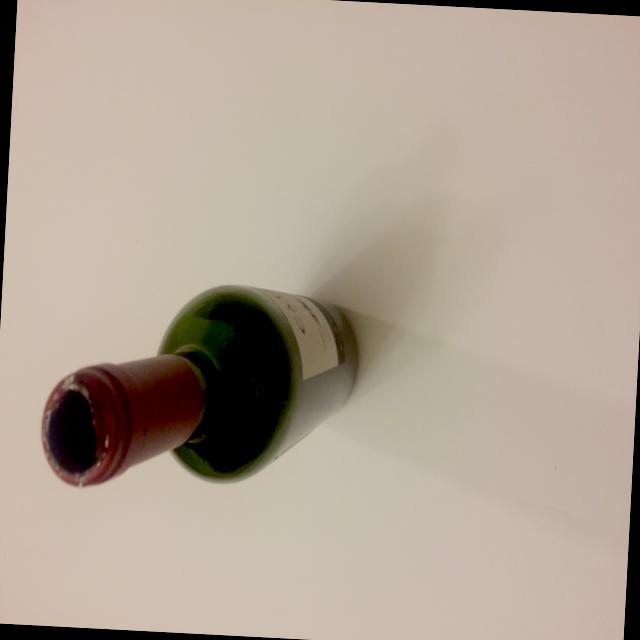Glass: (34, 266, 374, 512)
